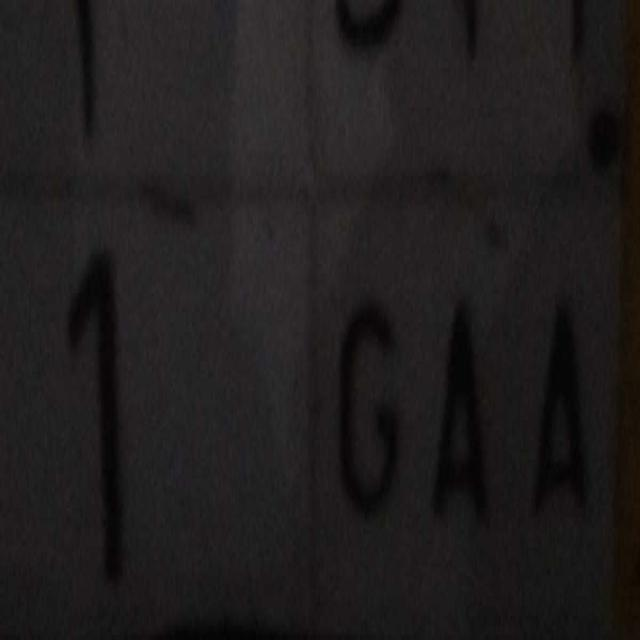license_plate: (0, 177, 624, 640)
